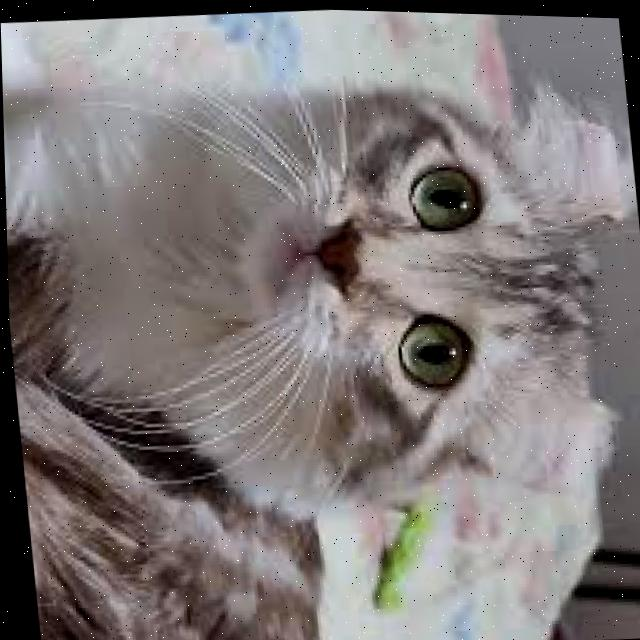American Curl: (1, 35, 640, 640)
